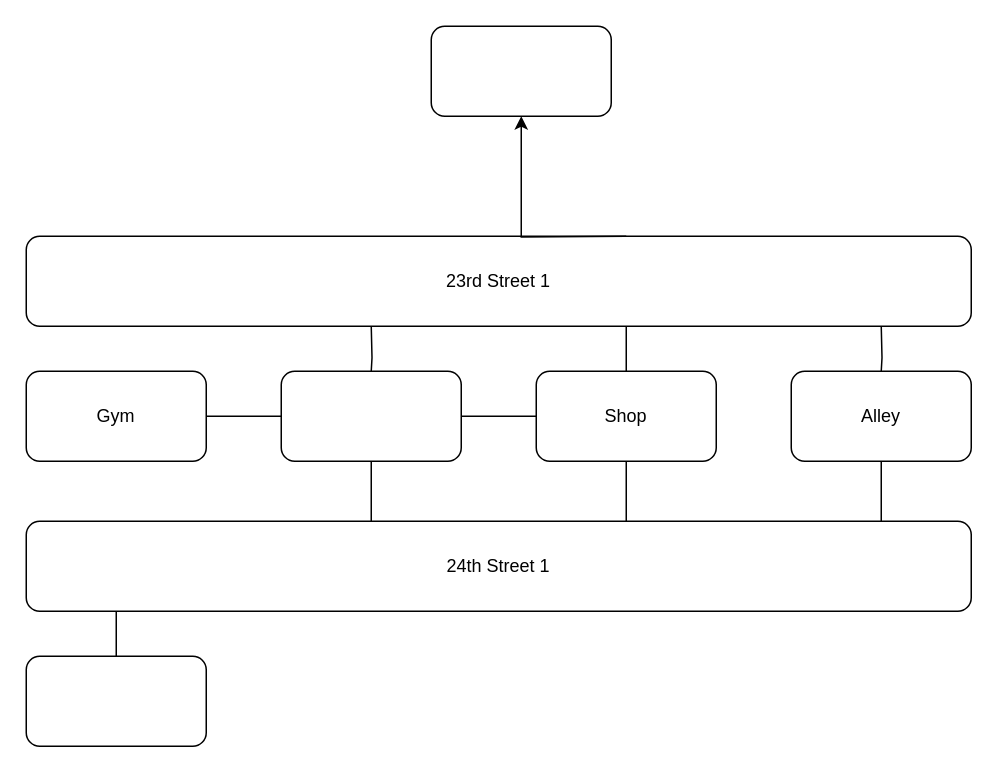
This 998x773 diagram has some shape labels left out. Each missing label, with the box of its shape:
22nd Street 1: (280, 370, 461, 461)
Ameilia Wongs Clinic: (430, 25, 611, 116)
Chad's House: (25, 655, 206, 746)
